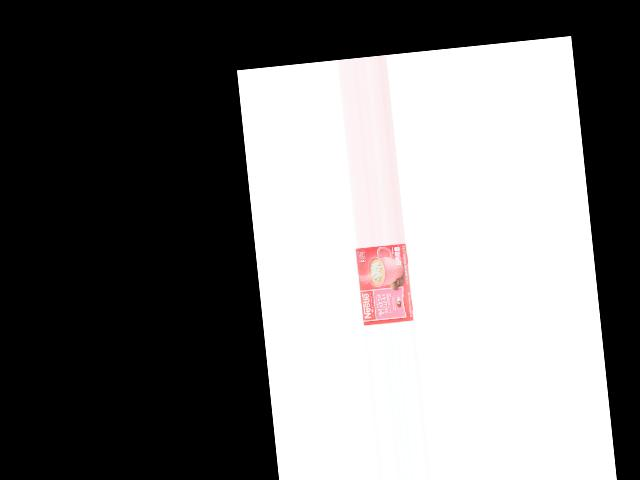chocolate: (357, 242, 416, 323)
